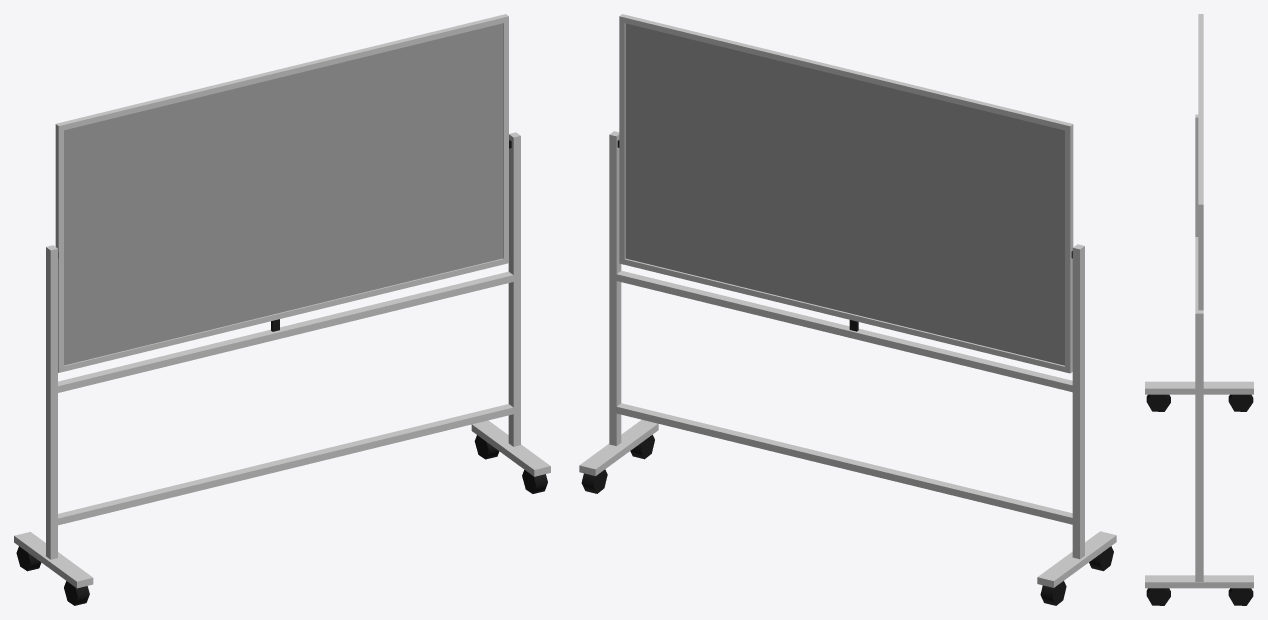
Rendered from Whiteboard 1.fbx.
3 views of the same model, side by side, from view 1: azimuth 30°, elevation 25°; view 2: azimuth 150°, elevation 25°; view 3: azimuth 270°, elevation 25° (orthographic). The views are drawn at different scales.
Parts seen in each view (by area): view 1: Drawing_panel, White_Board; view 2: Drawing_panel, White_Board; view 3: White_Board.
Boxes of the visible parts, bbox=[...] form: Drawing_panel: bbox=[64, 23, 502, 365]; White_Board: bbox=[14, 14, 550, 605]; Drawing_panel: bbox=[625, 23, 1064, 365]; White_Board: bbox=[579, 14, 1116, 605]; White_Board: bbox=[1145, 14, 1253, 605].
Bounding box in the file's own units: 48.18 × 44.52 × 11.05.
